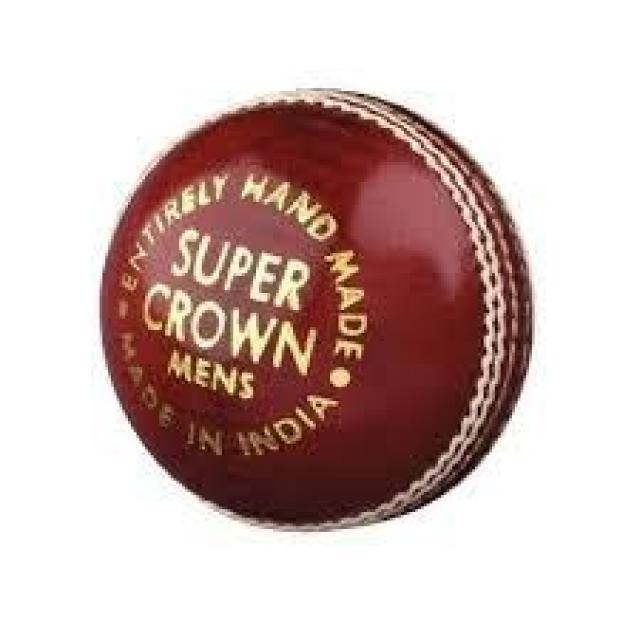ball: (100, 88, 534, 535)
